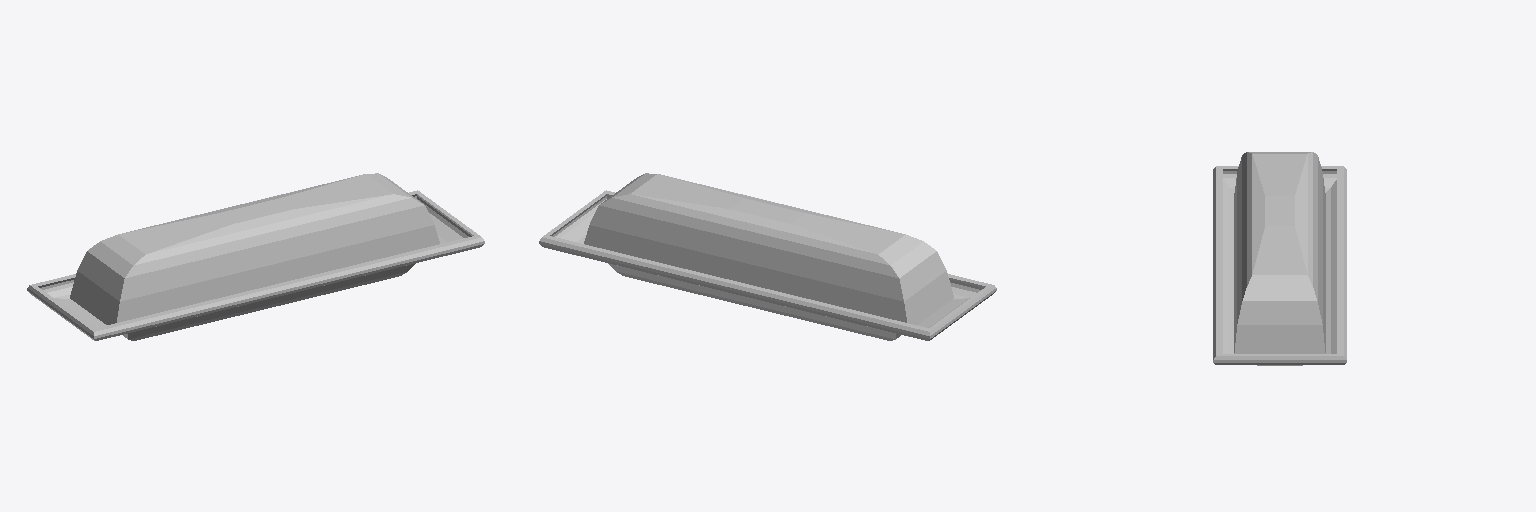
The model's file is butterdish.obj.
The picture shows the model from 3 angles: view 1: azimuth 30°, elevation 25°; view 2: azimuth 150°, elevation 25°; view 3: azimuth 270°, elevation 25°; orthographic projection.
Visible parts, largest first — view 1: ButterDishTop Butter_Dish, Butter_Dish ButterDishBottom; view 2: ButterDishTop Butter_Dish, Butter_Dish ButterDishBottom; view 3: ButterDishTop Butter_Dish, Butter_Dish ButterDishBottom.
Part boxes in pixels (x1,y1,x2,y2): ButterDishTop Butter_Dish: (70, 173, 439, 324); Butter_Dish ButterDishBottom: (27, 190, 484, 340); ButterDishTop Butter_Dish: (584, 173, 953, 324); Butter_Dish ButterDishBottom: (539, 190, 996, 340); ButterDishTop Butter_Dish: (1234, 152, 1325, 353); Butter_Dish ButterDishBottom: (1213, 166, 1346, 365).
Size of the model in its own units: 10.35 by 2.27 by 3.05.